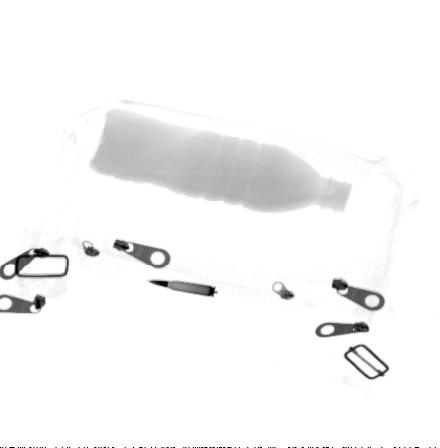Bullet: (145, 279, 215, 297)
